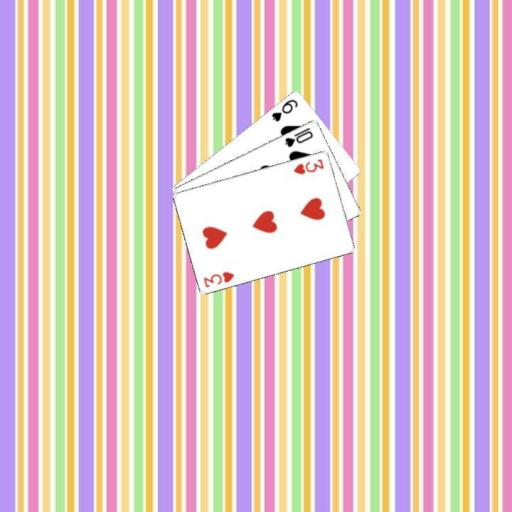10S: (282, 124, 314, 149)
3H: (201, 268, 236, 289), (290, 156, 326, 176)
6S: (269, 96, 299, 123)
